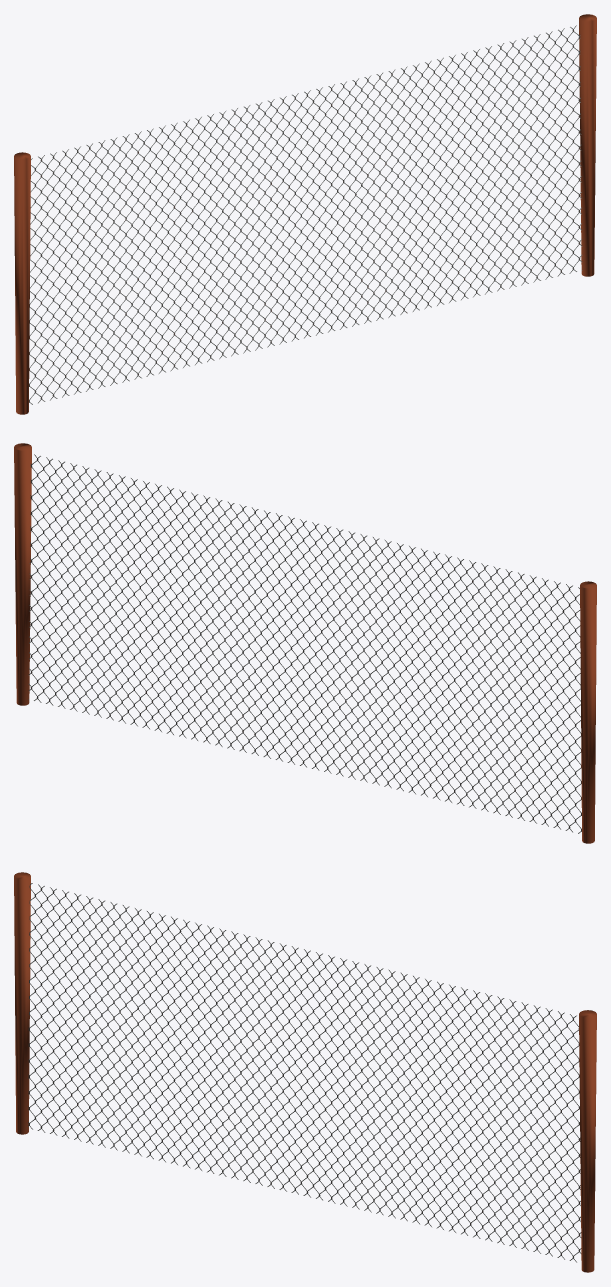
The model's file is ChainLink.fbx.
3 renders of one model, top to bottom at view 1: azimuth 30°, elevation 25°; view 2: azimuth 150°, elevation 25°; view 3: azimuth 330°, elevation 25°, orthographic.
Visible parts, largest first — view 1: Plane; view 2: Plane; view 3: Plane.
Part boxes in pixels (x1,y1,x2,y2): Plane: (14, 14, 596, 414); Plane: (14, 443, 596, 843); Plane: (14, 872, 596, 1272).
Size of the model in its own units: 3082 by 1299 by 82.98.
